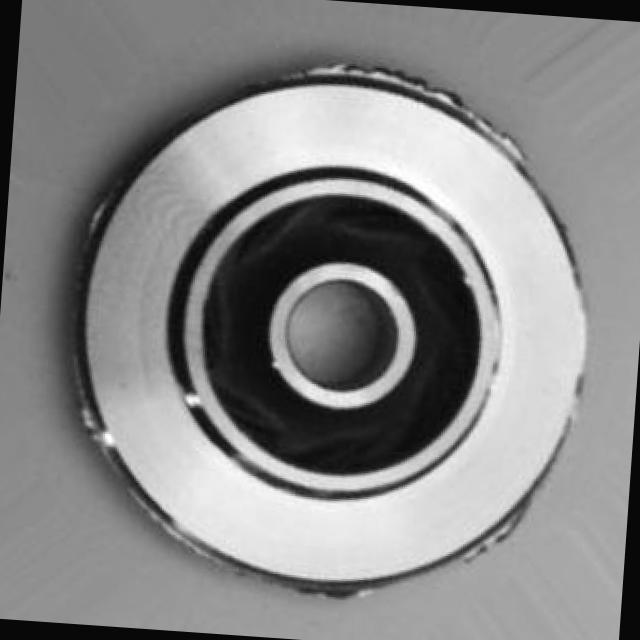Defect: (305, 46, 478, 106)
